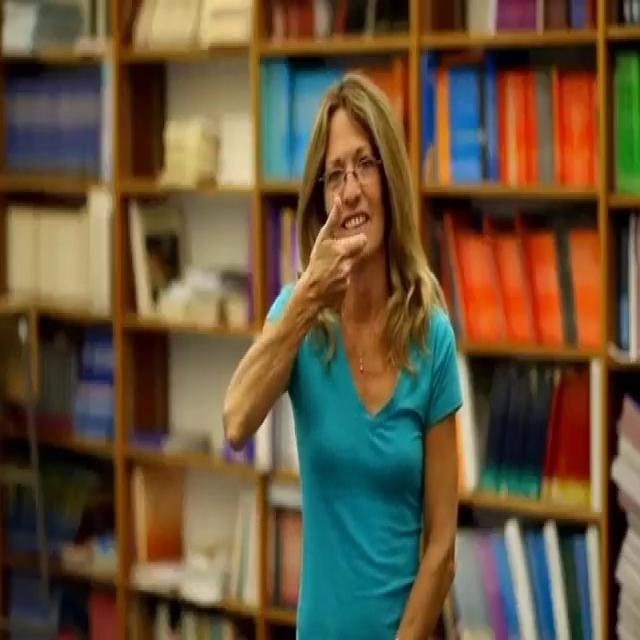pizza: (300, 197, 378, 326)
